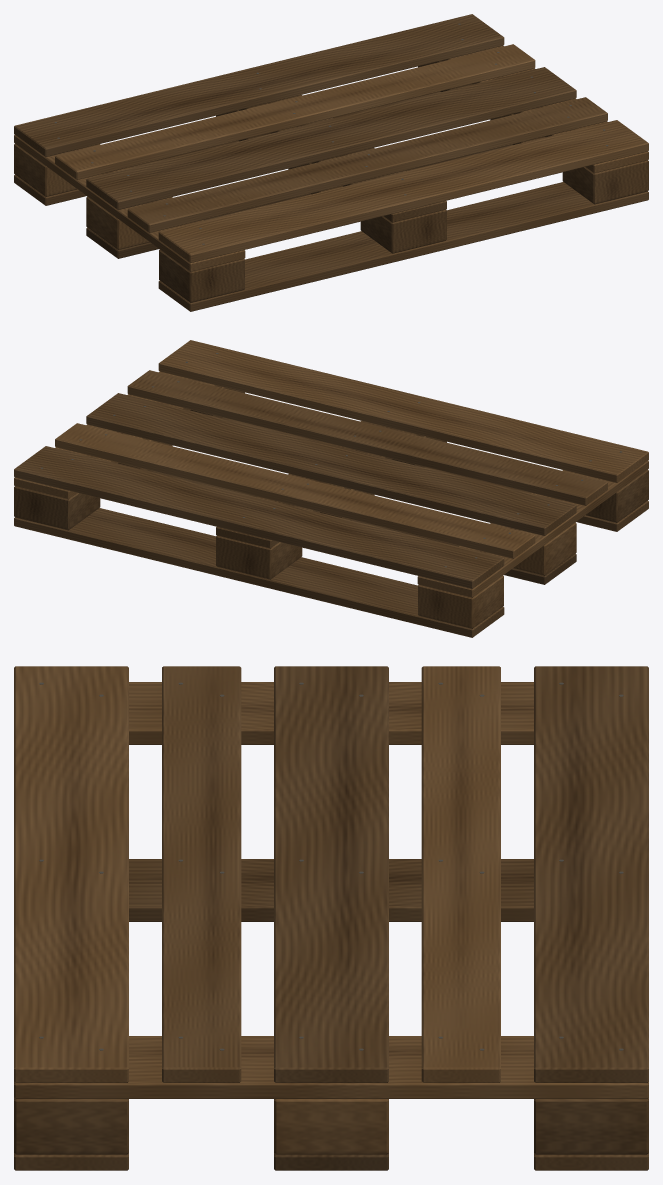
The model's file is wooden_shipping_pallet_LOD1.glb.
3 renders of one model, top to bottom at view 1: azimuth 30°, elevation 25°; view 2: azimuth 150°, elevation 25°; view 3: azimuth 270°, elevation 25°, orthographic. The views are drawn at different scales.
Parts seen in each view (by area): view 1: Top_Deck_Board_1, Top_Deck_Board_5, Top_Deck_Board_3, Top_Deck_Board_4, Top_Deck_Board_2, Bottom_Runner_1, Support_Block_1_1, Cross_Board_1, Support_Block_3_1, Support_Block_2_1, Support_Block_1_2, Support_Block_1_3 (+4 smaller); view 2: Top_Deck_Board_5, Top_Deck_Board_1, Top_Deck_Board_3, Top_Deck_Board_4, Top_Deck_Board_2, Bottom_Runner_3, Support_Block_1_3, Cross_Board_1, Support_Block_3_3, Support_Block_2_3, Support_Block_1_2, Support_Block_1_1 (+4 smaller); view 3: Top_Deck_Board_1, Top_Deck_Board_3, Top_Deck_Board_5, Top_Deck_Board_2, Top_Deck_Board_4, Cross_Board_3, Cross_Board_1, Cross_Board_2, Support_Block_3_1, Support_Block_3_3, Support_Block_3_2, Bottom_Runner_1 (+2 smaller).
Boxes of the visible parts, x1=… form: Top_Deck_Board_1: x1=158, y1=120, x2=648, y2=262; Top_Deck_Board_5: x1=14, y1=14, x2=504, y2=156; Top_Deck_Board_3: x1=86, y1=67, x2=576, y2=209; Top_Deck_Board_4: x1=55, y1=44, x2=535, y2=179; Top_Deck_Board_2: x1=127, y1=97, x2=607, y2=232; Bottom_Runner_1: x1=158, y1=182, x2=648, y2=311; Support_Block_1_1: x1=159, y1=249, x2=244, y2=302; Cross_Board_1: x1=14, y1=134, x2=245, y2=271; Support_Block_3_1: x1=562, y1=160, x2=648, y2=204; Support_Block_2_1: x1=360, y1=209, x2=446, y2=253; Support_Block_1_2: x1=86, y1=196, x2=149, y2=249; Support_Block_1_3: x1=14, y1=143, x2=77, y2=196; Top_Deck_Board_5: x1=14, y1=446, x2=504, y2=588; Top_Deck_Board_1: x1=158, y1=340, x2=648, y2=482; Top_Deck_Board_3: x1=86, y1=393, x2=576, y2=535; Top_Deck_Board_4: x1=55, y1=423, x2=535, y2=558; Top_Deck_Board_2: x1=127, y1=370, x2=607, y2=505; Bottom_Runner_3: x1=14, y1=508, x2=504, y2=637; Support_Block_1_3: x1=418, y1=575, x2=503, y2=628; Cross_Board_1: x1=417, y1=460, x2=648, y2=597; Support_Block_3_3: x1=14, y1=486, x2=100, y2=530; Support_Block_2_3: x1=216, y1=535, x2=302, y2=579; Support_Block_1_2: x1=513, y1=522, x2=576, y2=575; Support_Block_1_1: x1=585, y1=469, x2=648, y2=522; Top_Deck_Board_1: x1=14, y1=666, x2=128, y2=1082; Top_Deck_Board_3: x1=274, y1=666, x2=388, y2=1082; Top_Deck_Board_5: x1=534, y1=666, x2=648, y2=1082; Top_Deck_Board_2: x1=162, y1=666, x2=241, y2=1082; Top_Deck_Board_4: x1=421, y1=666, x2=500, y2=1082; Cross_Board_3: x1=14, y1=1036, x2=648, y2=1098; Cross_Board_1: x1=129, y1=682, x2=533, y2=744; Cross_Board_2: x1=129, y1=859, x2=533, y2=921; Support_Block_3_1: x1=14, y1=1097, x2=128, y2=1154; Support_Block_3_3: x1=534, y1=1097, x2=648, y2=1154; Support_Block_3_2: x1=274, y1=1099, x2=388, y2=1154; Bottom_Runner_1: x1=14, y1=1153, x2=128, y2=1170.
Size of the model in its own units: 1.2 by 0.1442 by 0.8.
2 materials, 1 textured.
